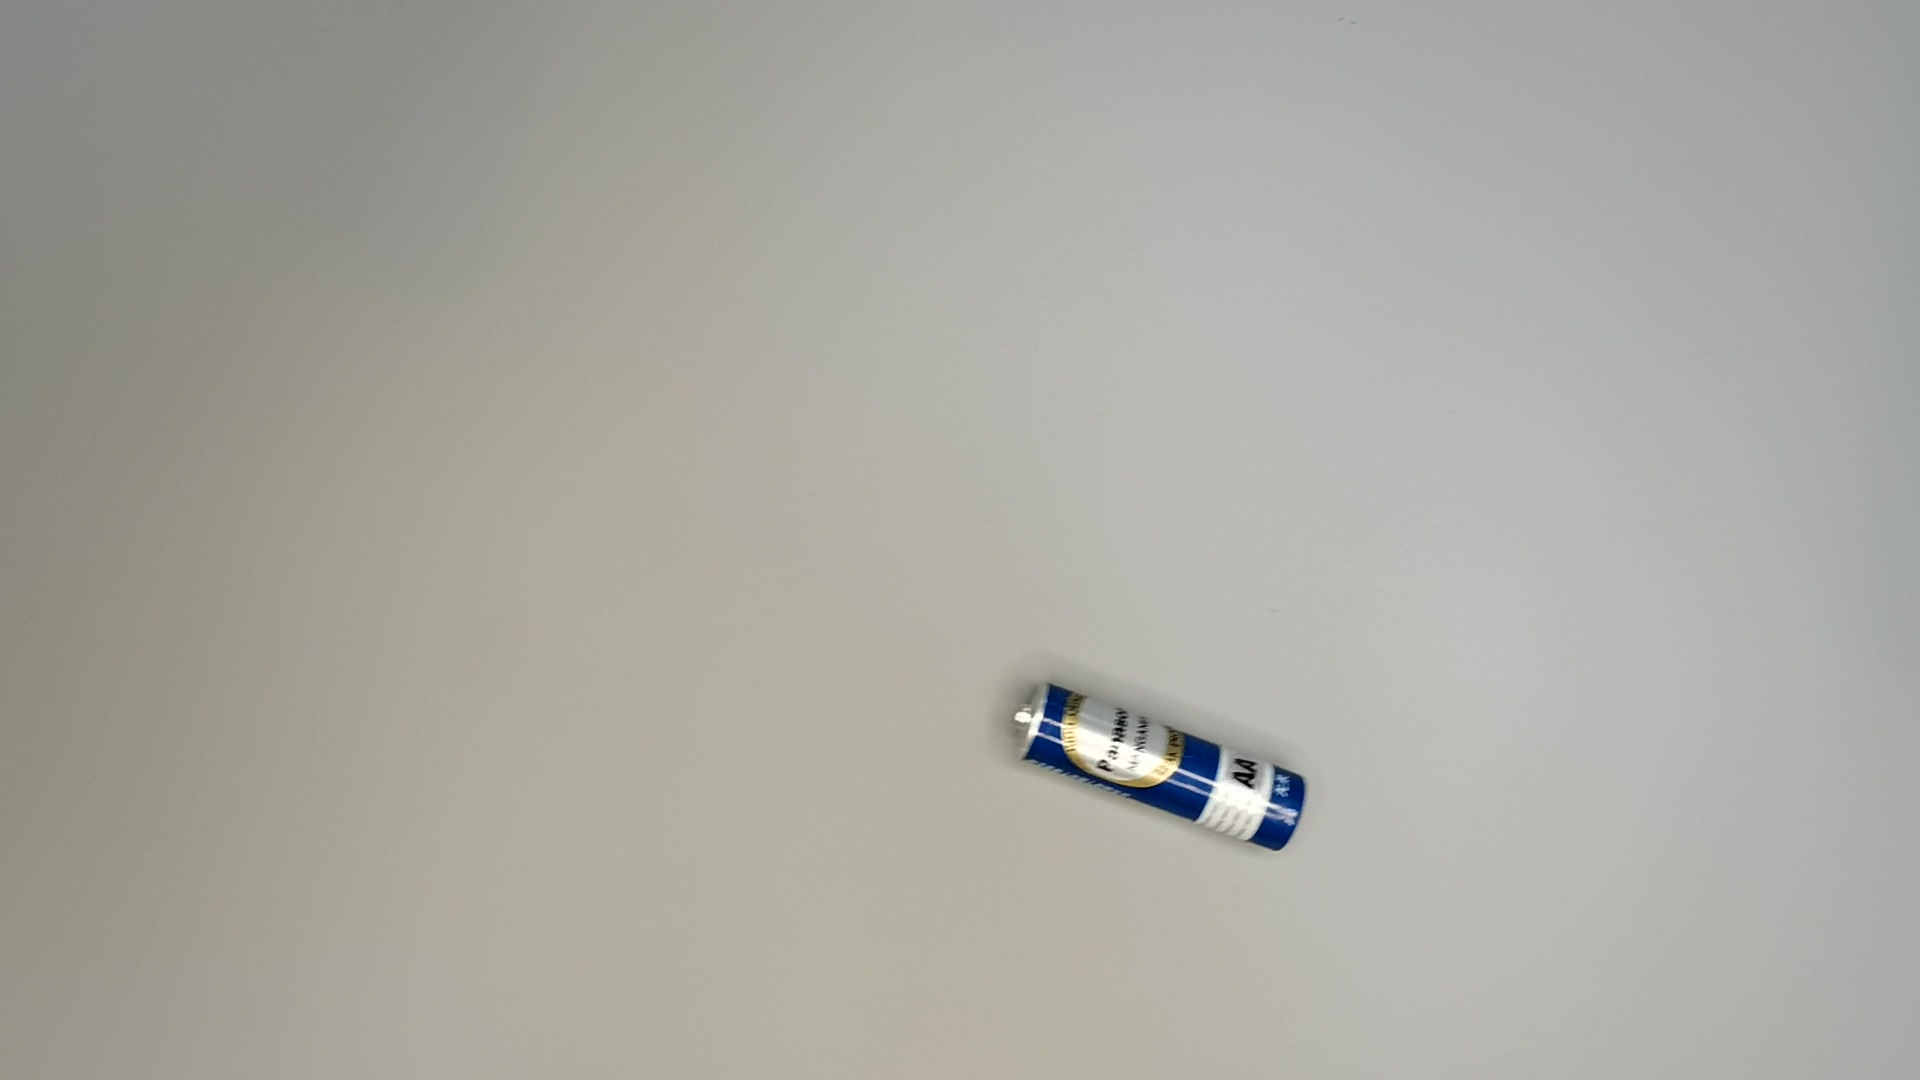battery: (1001, 678, 1312, 861)
